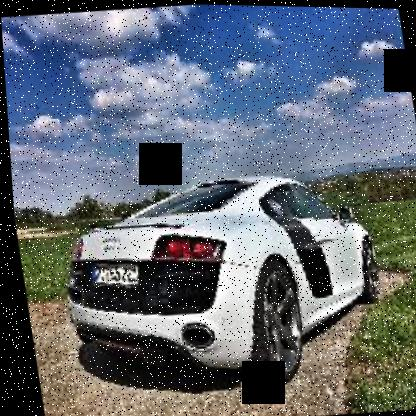not_emergency: (37, 139, 406, 411)
